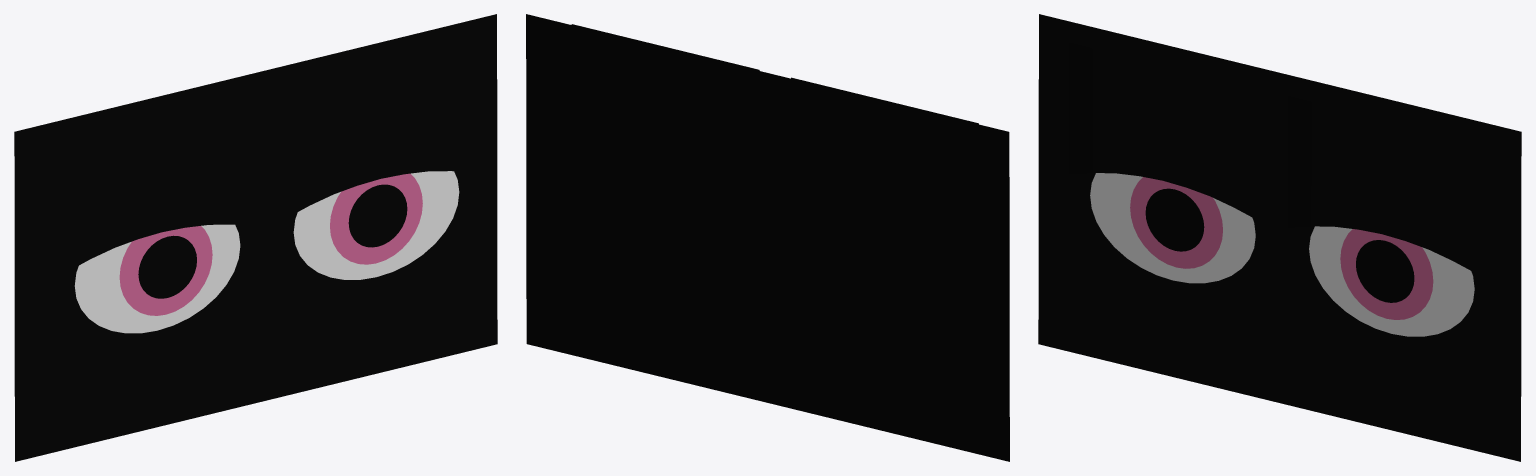
The model's file is Abi.glb.
3 renders of one model, left to right at view 1: azimuth 30°, elevation 25°; view 2: azimuth 150°, elevation 25°; view 3: azimuth 330°, elevation 25°, orthographic.
Visible parts, largest first — view 1: BG, LT_Lid, RT_Lid, R_Eye_Scelera, L_Eye_Scelera, R_Eye_Iris, L_Eye_Iris, R_Eye_Pupil, L_Eye_Pupil; view 2: BG; view 3: BG, LT_Lid, RT_Lid, R_Eye_Scelera, L_Eye_Scelera, L_Eye_Iris, R_Eye_Iris, R_Eye_Pupil, L_Eye_Pupil.
Part boxes in pixels (x1,y1,x2,y2): BG: [14, 14, 497, 461]; LT_Lid: [286, 41, 474, 217]; RT_Lid: [67, 94, 255, 271]; R_Eye_Scelera: [74, 224, 240, 333]; L_Eye_Scelera: [293, 171, 459, 279]; R_Eye_Iris: [119, 226, 212, 315]; L_Eye_Iris: [330, 173, 422, 264]; R_Eye_Pupil: [138, 235, 196, 298]; L_Eye_Pupil: [348, 184, 407, 247]; BG: [526, 14, 1009, 461]; BG: [1038, 14, 1521, 461]; LT_Lid: [1288, 96, 1475, 272]; RT_Lid: [1069, 42, 1256, 219]; R_Eye_Scelera: [1090, 173, 1255, 283]; L_Eye_Scelera: [1309, 226, 1474, 336]; L_Eye_Iris: [1340, 229, 1433, 319]; R_Eye_Iris: [1130, 177, 1222, 268]; R_Eye_Pupil: [1145, 188, 1204, 251]; L_Eye_Pupil: [1356, 240, 1414, 302].
Bounding box in the file's own units: 3.06 × 2 × 0.1278.
